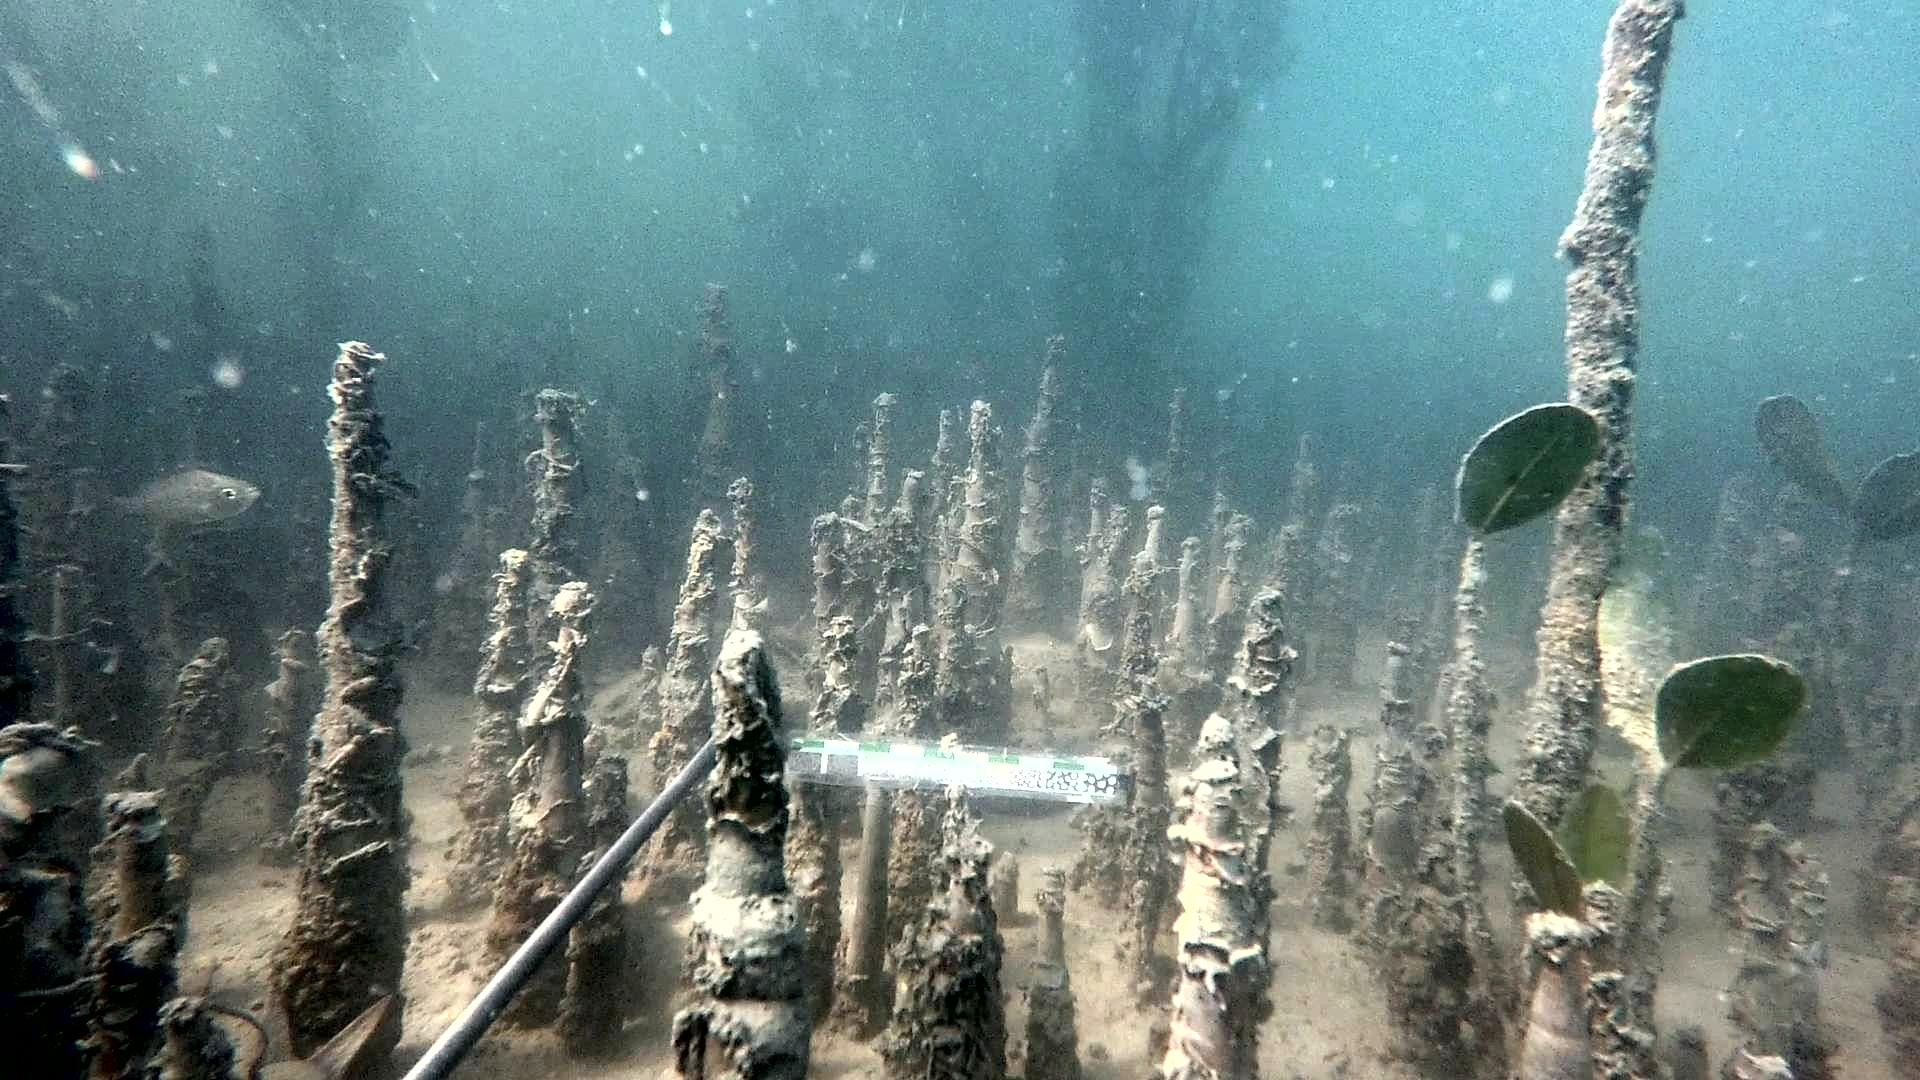gerres: (78, 452, 266, 535)
